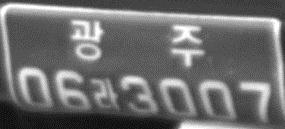0: (198, 80, 237, 122), (159, 76, 197, 119), (18, 66, 52, 106)
3: (120, 74, 158, 115)
6: (54, 69, 88, 110)
7: (238, 80, 273, 123)
광주_D: (69, 19, 204, 67)
라: (91, 76, 119, 110)
